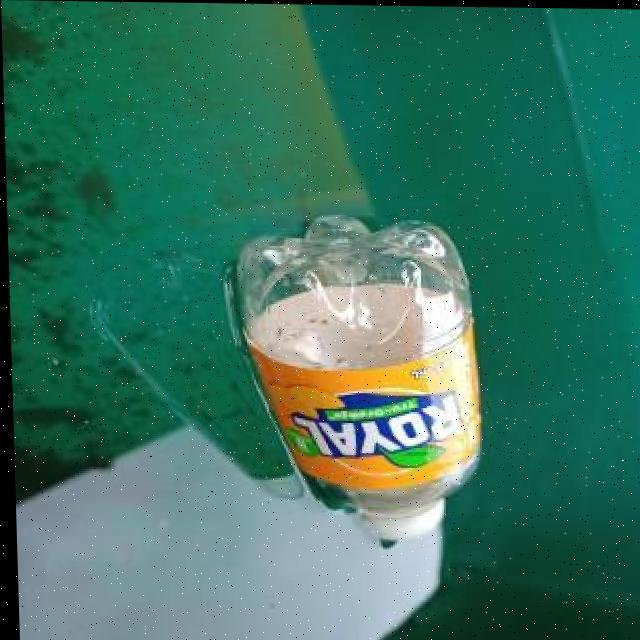bottle: (228, 210, 486, 547)
